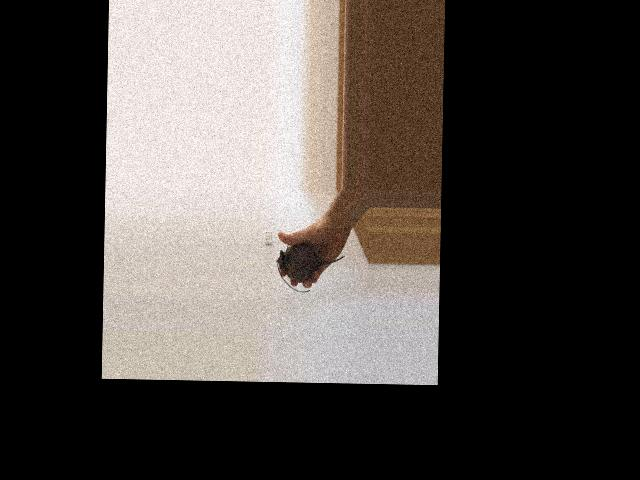beet: (276, 244, 344, 293)
